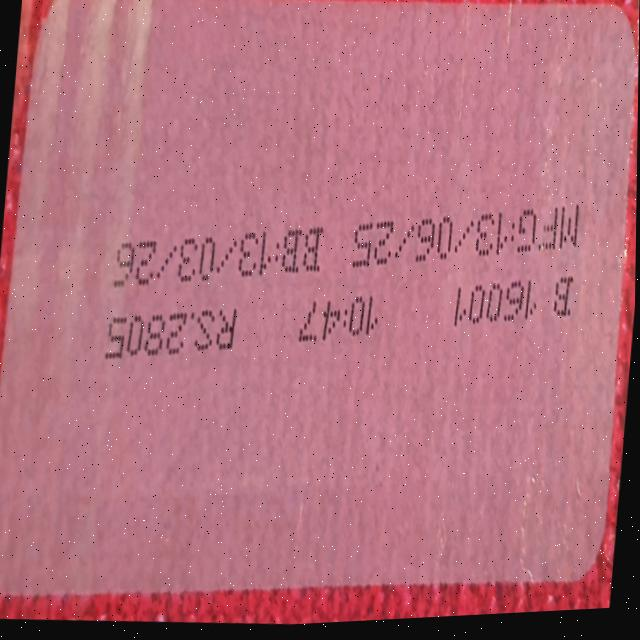BB: (106, 203, 338, 304)
Batch: (442, 260, 590, 354)
MFG: (344, 197, 585, 285)
RS: (102, 295, 254, 375)
TimeStamp: (301, 288, 393, 357)
